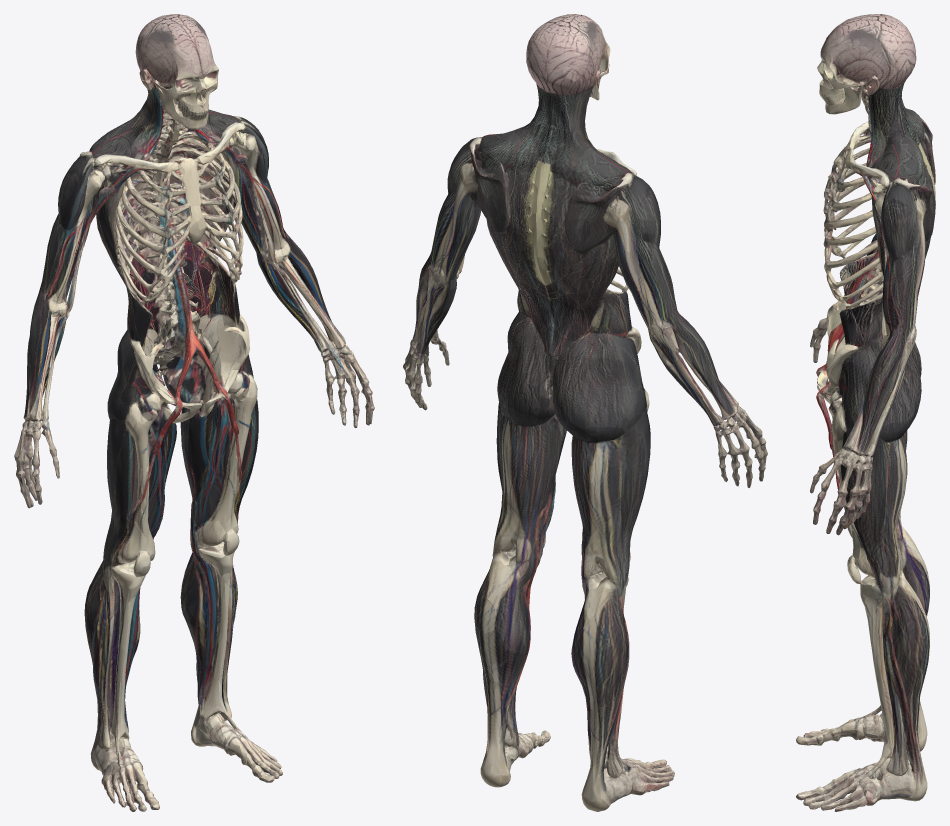
The model's file is glass-figure.glb.
The picture shows the model from 3 angles, left to right: view 1: azimuth 30°, elevation 25°; view 2: azimuth 150°, elevation 25°; view 3: azimuth 270°, elevation 25°; orthographic projection.
Bounding box in the file's own units: 0.932 × 1.9 × 0.3183.
Materials: 1 (1 with a texture image).
